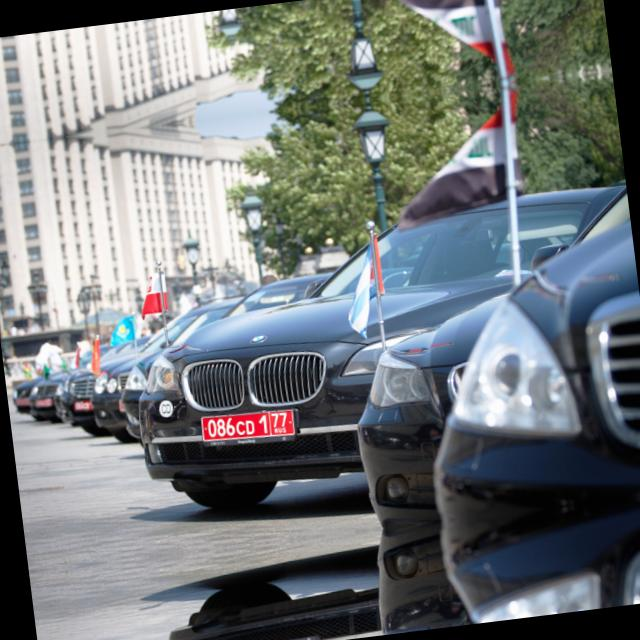diplomatic: (192, 398, 303, 452), (219, 630, 327, 640)
